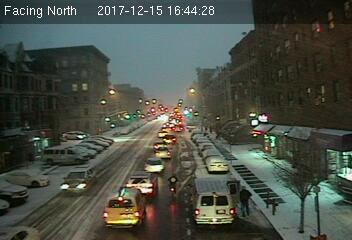bicycle: (166, 172, 179, 200)
car: (104, 186, 147, 232), (61, 166, 95, 193), (126, 174, 159, 197), (206, 156, 230, 174), (143, 158, 164, 173), (153, 148, 171, 160), (162, 134, 177, 144)
pedestrian: (240, 184, 252, 219)
truck: (190, 174, 236, 225)
